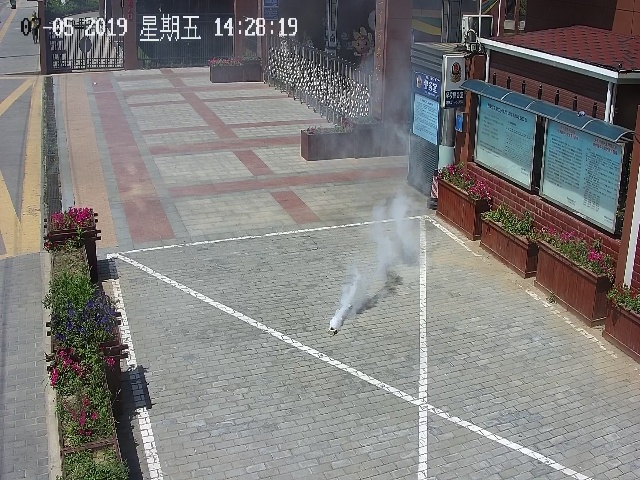yanwu: (334, 193, 430, 328)
